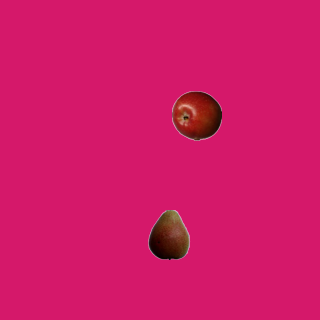Apple Braeburn: (171, 90, 221, 140)
Pear Forelle: (143, 209, 193, 259)
